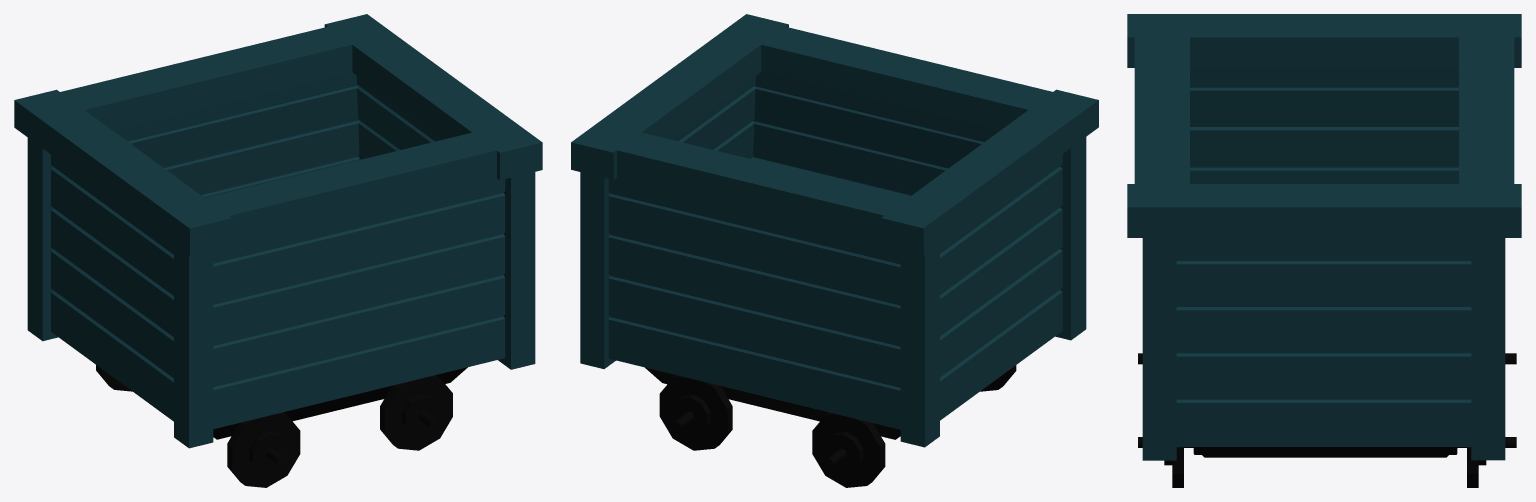
Rendered from wagon.obj.
3 views of the same model, side by side, from view 1: azimuth 30°, elevation 25°; view 2: azimuth 150°, elevation 25°; view 3: azimuth 270°, elevation 25° (orthographic). The views are drawn at different scales.
Parts seen in each view (by area): view 1: Wagon, Roues; view 2: Wagon, Roues; view 3: Wagon, Roues.
Boxes of the visible parts, <box> form: Wagon: <box>14,14,542,448</box>; Roues: <box>96,365,452,487</box>; Wagon: <box>571,14,1098,447</box>; Roues: <box>659,365,1016,487</box>; Wagon: <box>1127,14,1521,460</box>; Roues: <box>1138,353,1516,487</box>.
Bounding box in the file's own units: 2.69 × 2.17 × 2.32.
